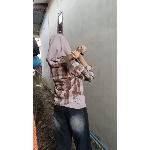Kapak: (64, 44, 86, 72)
